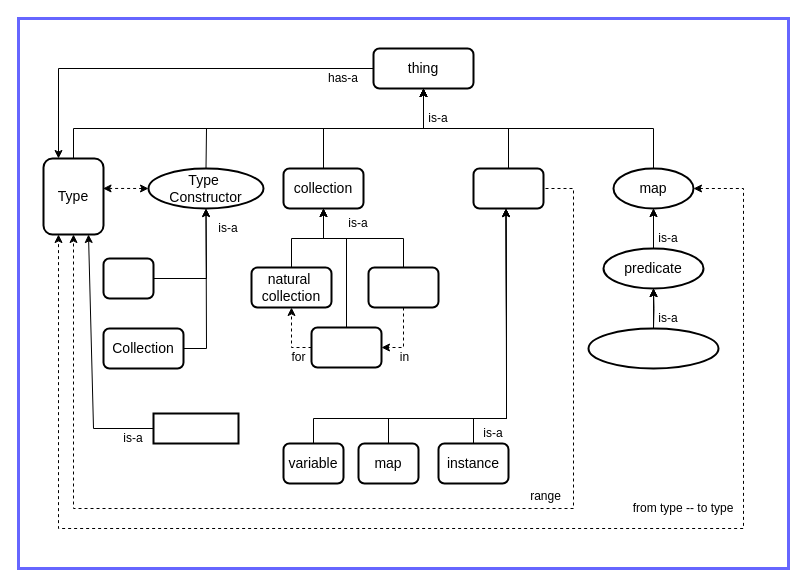
Some shapes in this 807 by 587 pixel diagram are drawn without their labels. The shapes that lost their labels are listed below. From the top down, each one's centre as x and y in pixels, then its label:
At point (508, 188): "term".
At point (128, 278): "Tuple".
At point (403, 287): "set".
At point (346, 347): "powerset".
At point (653, 348): "logical operator".
At point (195, 428): "Truth Value".
